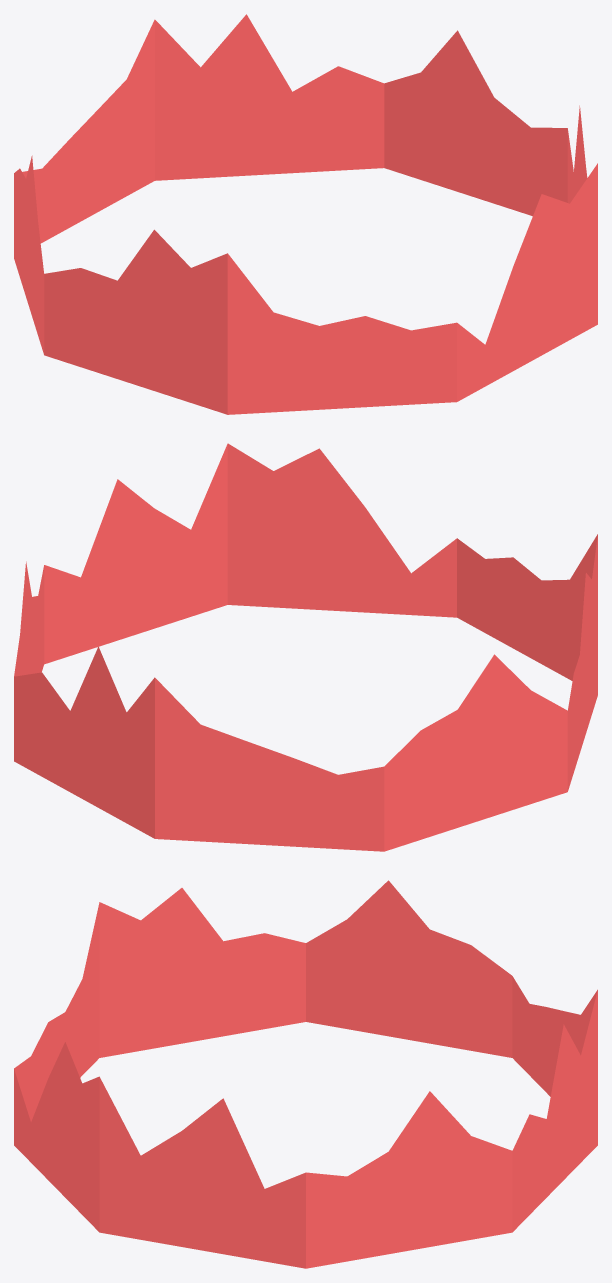
The model's file is red_join_area_active.gltf.
3 renders of one model, top to bottom at view 1: azimuth 30°, elevation 25°; view 2: azimuth 150°, elevation 25°; view 3: azimuth 270°, elevation 25°, orthographic. The views are drawn at different scales.
Parts seen in each view (by area): view 1: red_active; view 2: red_active; view 3: red_active.
Boxes of the visible parts, x1,y1,x2,y2 form: red_active: (14, 14, 597, 414); red_active: (14, 443, 597, 851); red_active: (14, 880, 597, 1268).
Size of the model in its own units: 3.8 by 1.12 by 3.8.
1 material, 1 textured.
